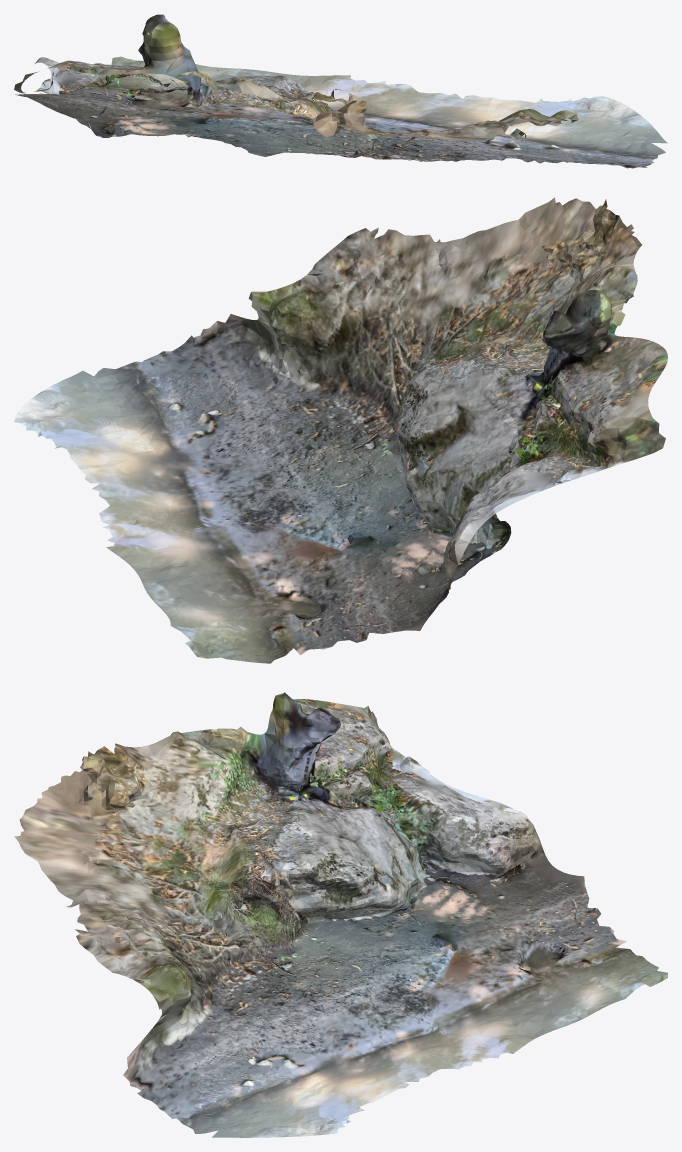
File: caillou.glb
The picture shows the model from 3 angles, top to bottom: view 1: azimuth 30°, elevation 25°; view 2: azimuth 150°, elevation 25°; view 3: azimuth 270°, elevation 25°; orthographic projection. The views are drawn at different scales.
Parts seen in each view (by area): view 1: Mesh_0.001; view 2: Mesh_0.001; view 3: Mesh_0.001.
Part boxes in pixels (<box>): Mesh_0.001: <box>14,14,667,168</box>; Mesh_0.001: <box>14,197,667,663</box>; Mesh_0.001: <box>14,692,667,1137</box>.
Size of the model in its own units: 4.5 by 1.57 by 4.34.
1 material, 1 textured.
